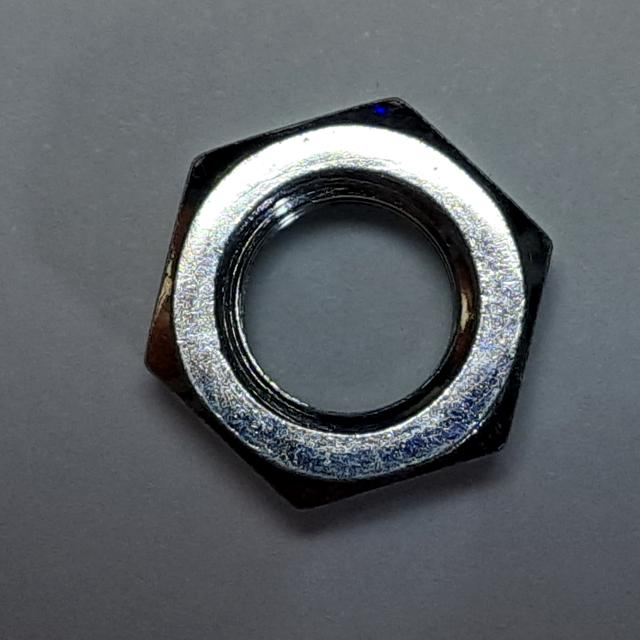Excellent: (134, 79, 572, 530)
